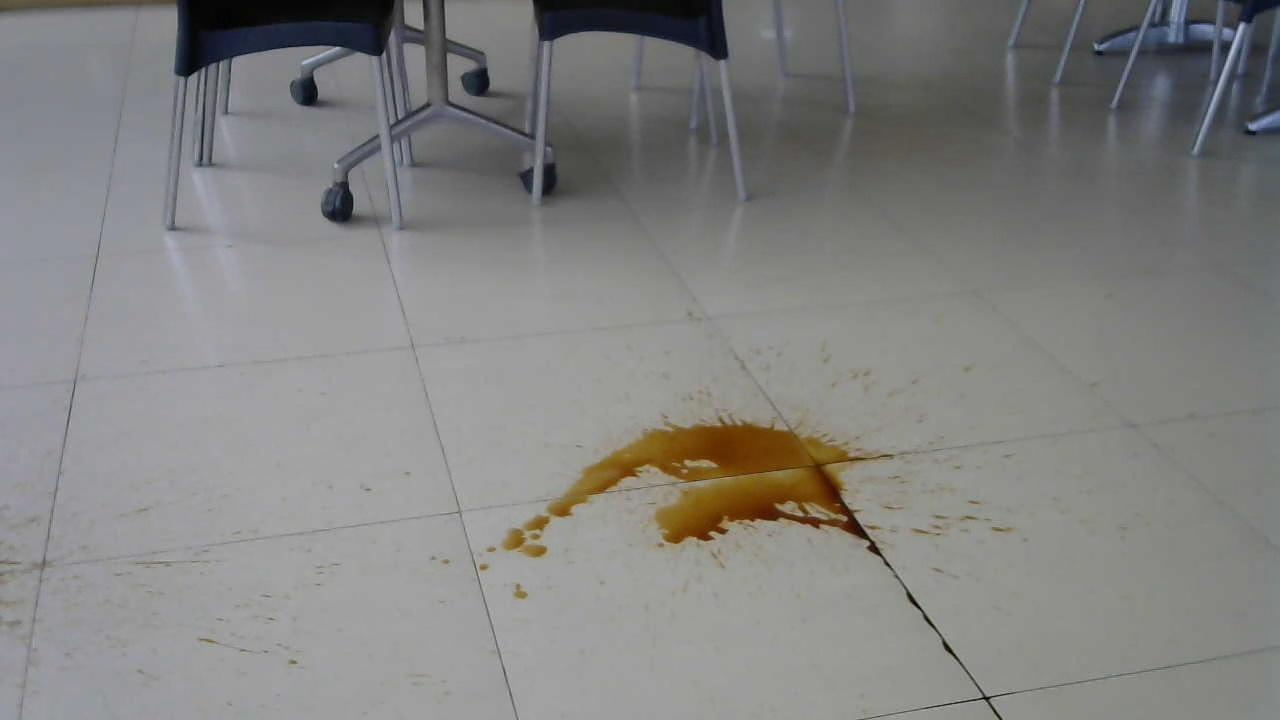dirty_floor: (467, 412, 931, 589)
